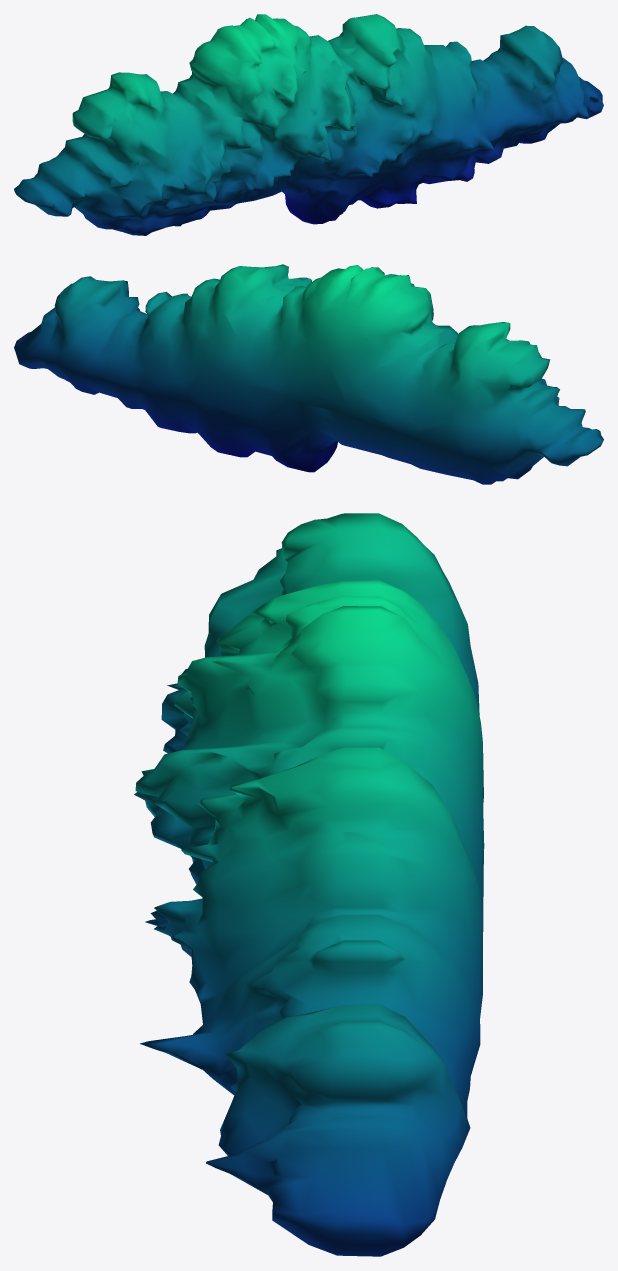
The model's file is env_sky_cloudlow_1.fbx.
The picture shows the model from 3 angles, top to bottom: view 1: azimuth 30°, elevation 25°; view 2: azimuth 150°, elevation 25°; view 3: azimuth 270°, elevation 25°; orthographic projection. The views are drawn at different scales.
Parts seen in each view (by area): view 1: env_sky_cloudlow_1; view 2: env_sky_cloudlow_1; view 3: env_sky_cloudlow_1.
Boxes of the visible parts, <box> form: env_sky_cloudlow_1: <box>14,14,603,235</box>; env_sky_cloudlow_1: <box>14,264,603,484</box>; env_sky_cloudlow_1: <box>134,513,484,1256</box>.
Bounding box in the file's own units: 20.28 × 6.99 × 5.35.
